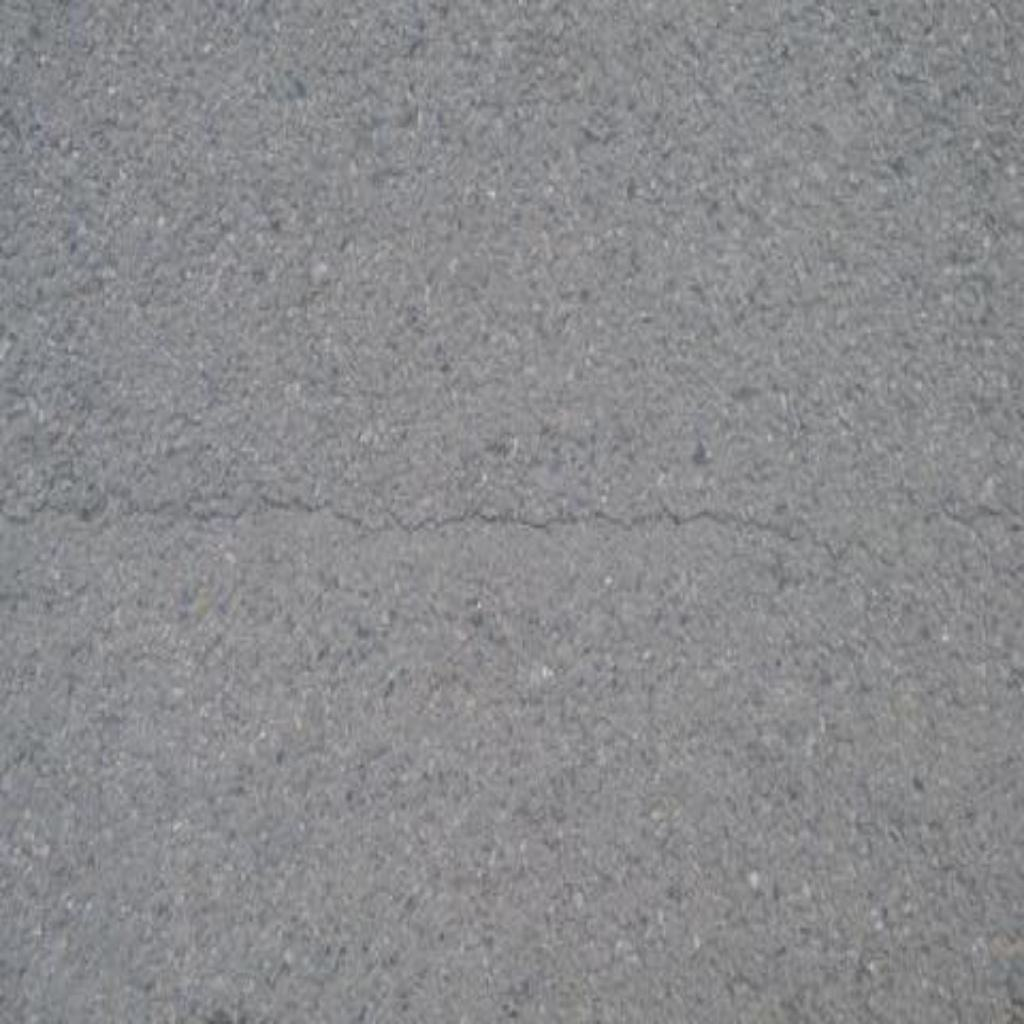Crack: (1, 498, 800, 542)
